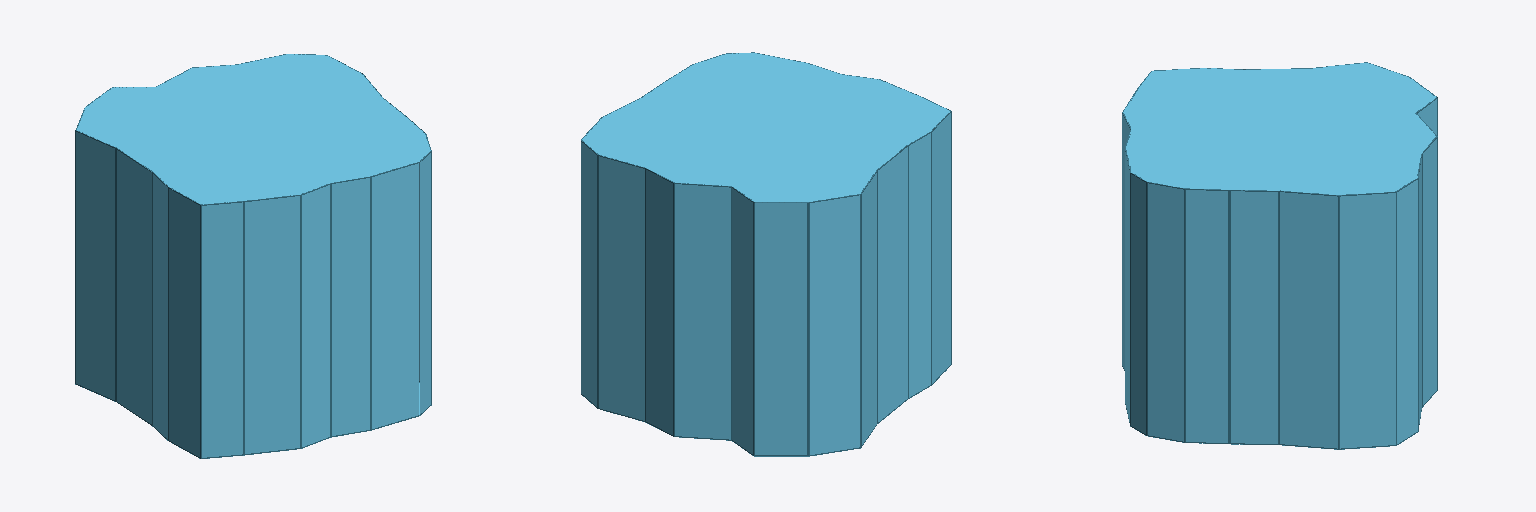
3 views of the same model, side by side, from view 1: azimuth 30°, elevation 25°; view 2: azimuth 150°, elevation 25°; view 3: azimuth 270°, elevation 25° (orthographic).
Parts seen in each view (by area): view 1: Cube; view 2: Cube; view 3: Cube.
Part boxes in pixels (x1,y1,x2,y2): Cube: (75, 54, 431, 458); Cube: (581, 52, 951, 456); Cube: (1122, 62, 1437, 449).
Size of the model in its own units: 1.94 by 1.72 by 1.94.
Materials: 1 (1 with a texture image).